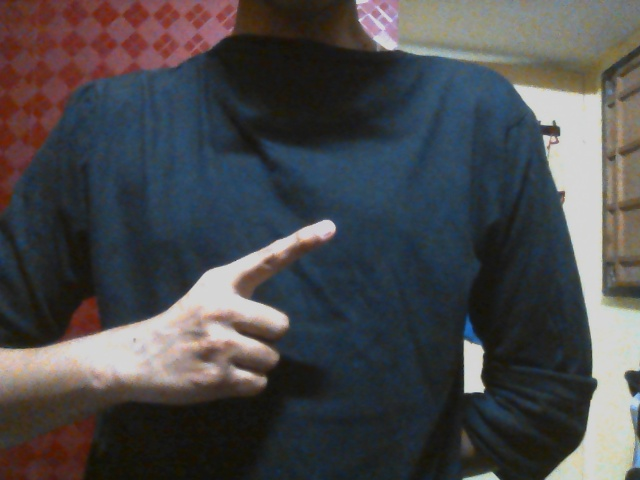I: (148, 218, 335, 406)
